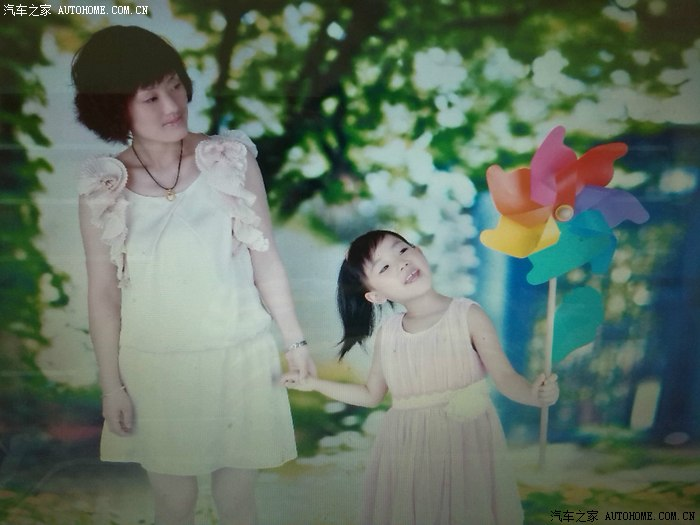handsup: (280, 199, 598, 510)
other: (56, 24, 336, 514)
